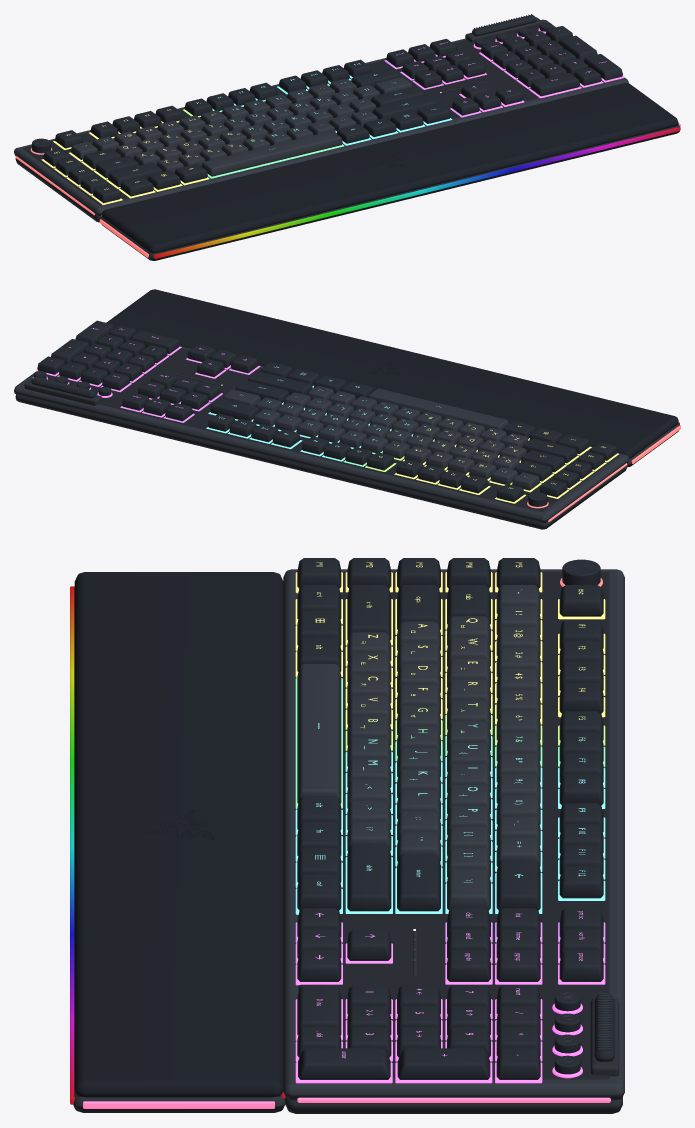
File: blackwidow-v4-pro-black-kr.glb
The picture shows the model from 3 angles, top to bottom: view 1: azimuth 30°, elevation 25°; view 2: azimuth 150°, elevation 25°; view 3: azimuth 270°, elevation 25°; orthographic projection. The views are drawn at different scales.
Visible parts, largest first — view 1: Wrist rest | Padded top, Aluminum frame, Switch plate, Wrist rest | Foundation, RGB | Wrist rest front edge, Key | Space, Key | Shift.001, Key | Numpad 0, Key | Shift, Key | Enter, Key | Numpad Enter, Key | Backspace (+14 smaller); view 2: Wrist rest | Padded top, Aluminum frame, Switch plate, Lower shell, Key | Space, Key | Shift.001, Key | Backspace, Key | Shift, Key | Enter, Key | Numpad 0, Volume roller | Cradle, Key | Numpad Enter (+13 smaller); view 3: Wrist rest | Padded top, Switch plate, Aluminum frame, Key | Space, Lower shell, Key | Shift.001, Key | Numpad +, Key | Numpad Enter, RGB | Wrist rest front edge, Key | Enter, Wrist rest | Foundation, Key | Backspace (+108 smaller).
Boxes of the visible parts, left/top/right/bottom form: Wrist rest | Padded top: left=102, top=83, right=678, bottom=253; Aluminum frame: left=14, top=19, right=628, bottom=215; Switch plate: left=23, top=22, right=604, bottom=205; Wrist rest | Foundation: left=100, top=124, right=680, bottom=260; RGB | Wrist rest front edge: left=154, top=127, right=679, bottom=258; Key | Space: left=201, top=130, right=342, bottom=176; Key | Shift.001: left=372, top=95, right=437, bottom=120; Key | Numpad 0: left=530, top=73, right=579, bottom=96; Key | Shift: left=108, top=162, right=162, bottom=187; Key | Enter: left=371, top=86, right=424, bottom=107; Key | Numpad Enter: left=583, top=54, right=622, bottom=80; Key | Backspace: left=351, top=68, right=400, bottom=87; Wrist rest | Padded top: left=106, top=289, right=678, bottom=458; Aluminum frame: left=14, top=346, right=628, bottom=522; Switch plate: left=23, top=348, right=619, bottom=512; Lower shell: left=15, top=394, right=627, bottom=529; Key | Space: left=368, top=388, right=508, bottom=430; Key | Shift.001: left=248, top=371, right=312, bottom=394; Key | Backspace: left=210, top=398, right=259, bottom=420; Key | Shift: left=523, top=438, right=577, bottom=463; Key | Enter: left=235, top=380, right=289, bottom=402; Key | Numpad 0: left=131, top=330, right=179, bottom=353; Volume roller | Cradle: left=24, top=379, right=102, bottom=405; Key | Numpad Enter: left=75, top=320, right=114, bottom=346; Wrist rest | Padded top: left=74, top=572, right=283, bottom=1097; Switch plate: left=298, top=572, right=609, bottom=1079; Aluminum frame: left=283, top=569, right=624, bottom=1100; Key | Space: left=297, top=664, right=341, bottom=803; Lower shell: left=285, top=1097, right=622, bottom=1113; Key | Shift.001: left=347, top=843, right=391, bottom=911; Key | Numpad +: left=397, top=1048, right=490, bottom=1079; Key | Numpad Enter: left=298, top=1048, right=390, bottom=1079; RGB | Wrist rest front edge: left=70, top=586, right=74, bottom=1104; Key | Enter: left=397, top=853, right=440, bottom=911; Wrist rest | Foundation: left=73, top=587, right=285, bottom=1112; Key | Backspace: left=496, top=858, right=540, bottom=910.
Size of the model in its own units: 0.4713 by 0.0222 by 0.2121.
Materials: 40 (2 with a texture image).
